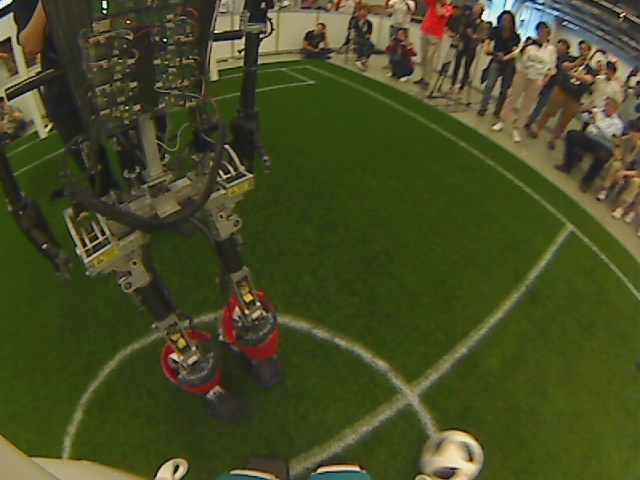ball: (419, 429, 487, 479)
